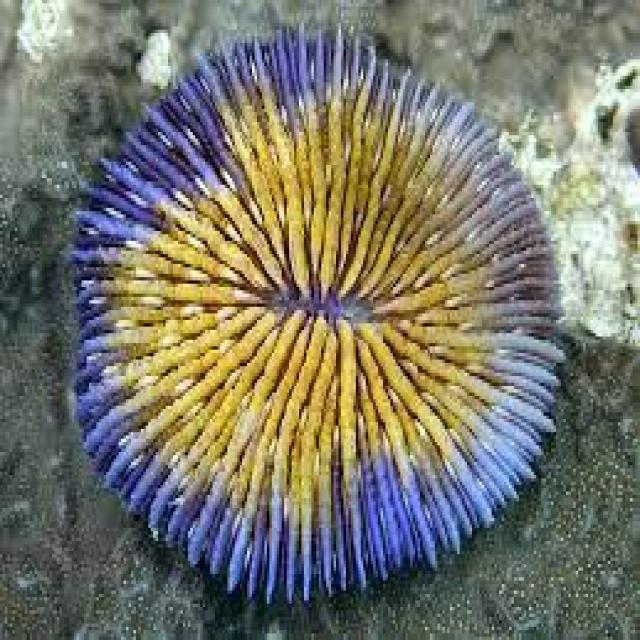Healthy Coral: (62, 12, 569, 620)
